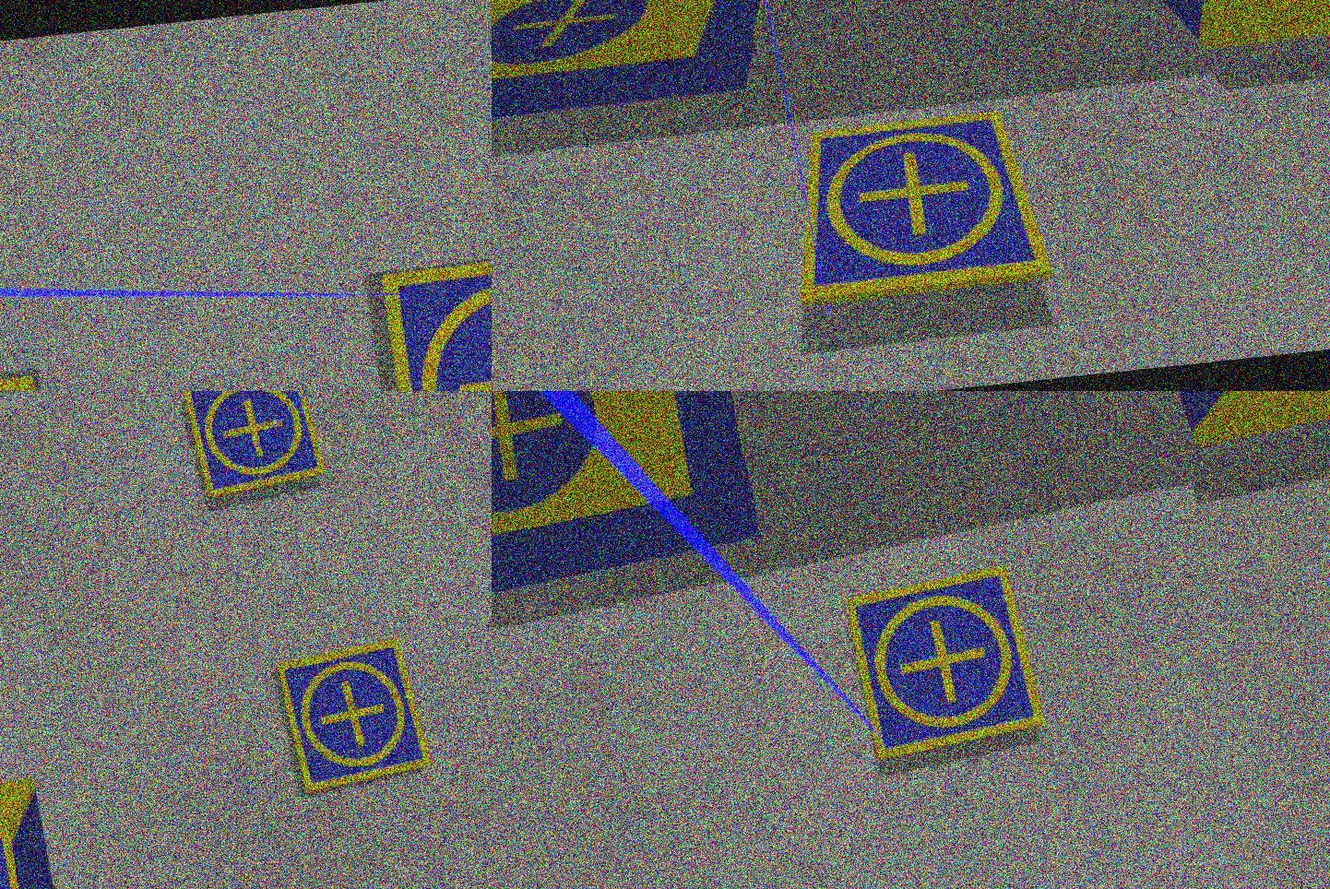large_base: (493, 391, 768, 637), (493, 1, 789, 144)
small_base: (786, 105, 1059, 306), (839, 557, 1052, 769), (275, 635, 437, 800), (376, 240, 493, 391), (178, 391, 328, 508)
